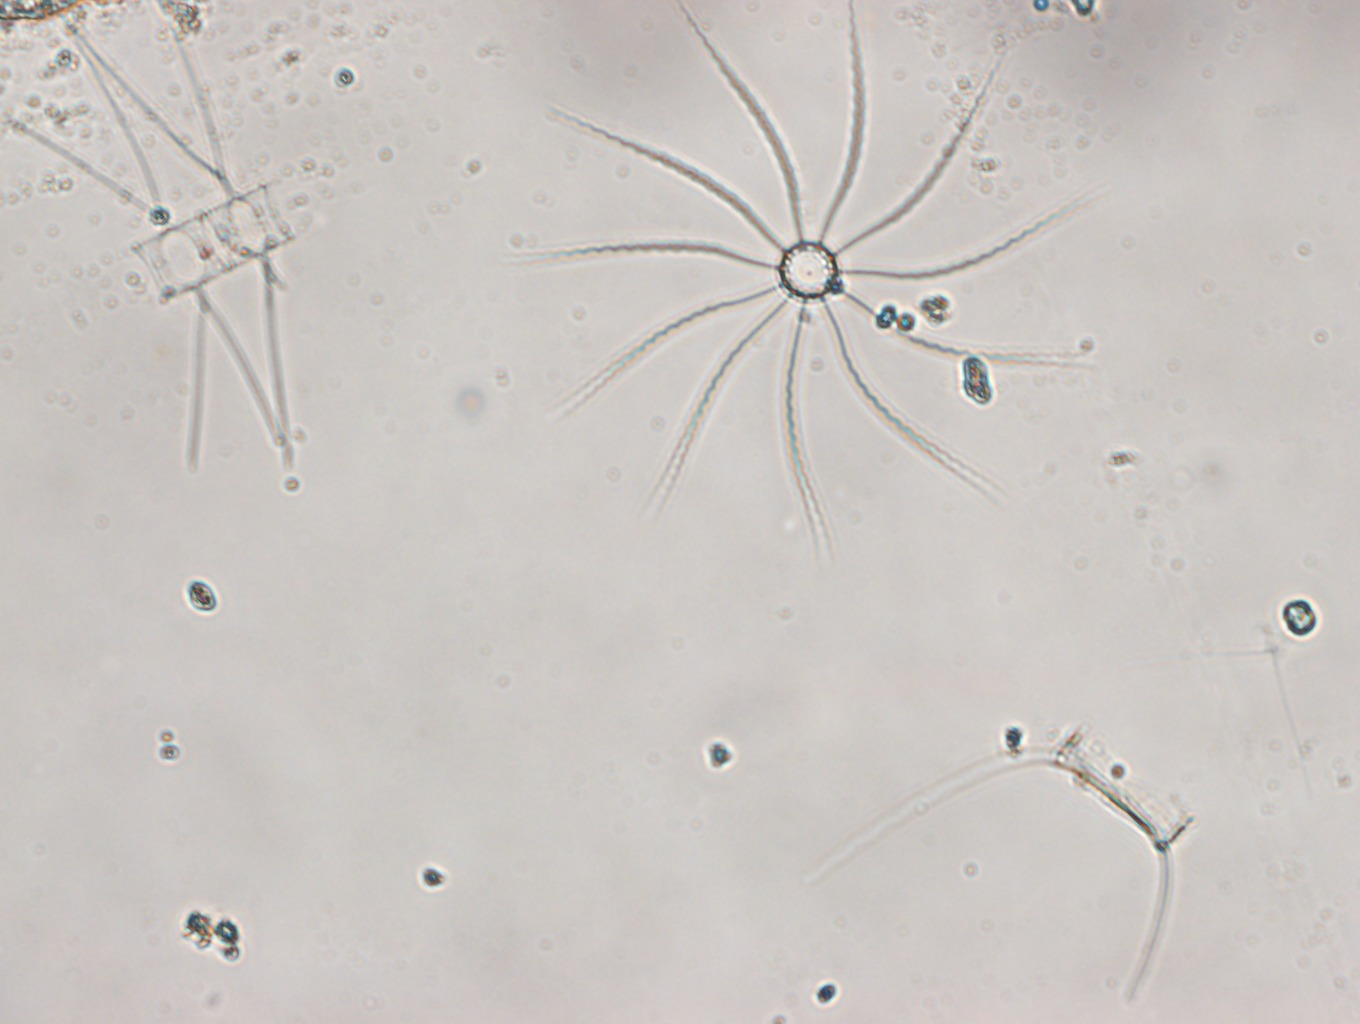bacteriastrum: (519, 1, 1099, 561)
chaetoceros: (8, 19, 302, 471), (822, 722, 1196, 1007)
